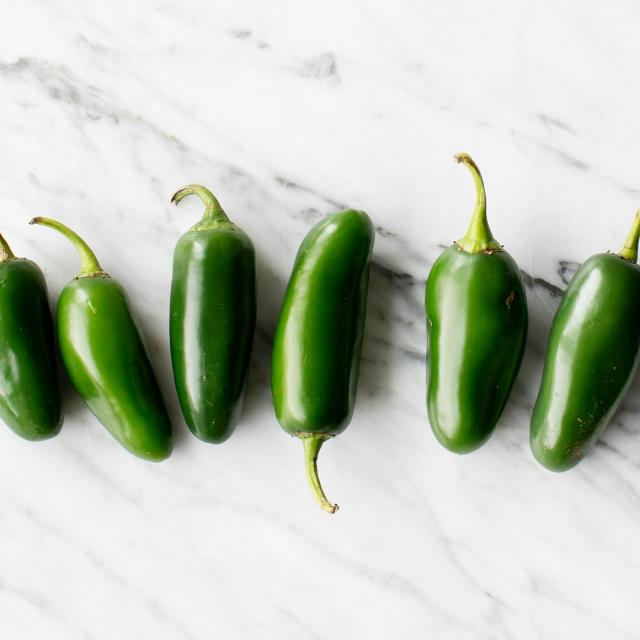aji: (420, 178, 542, 454), (298, 210, 377, 540), (153, 206, 276, 400), (551, 221, 640, 468), (0, 195, 63, 459)
